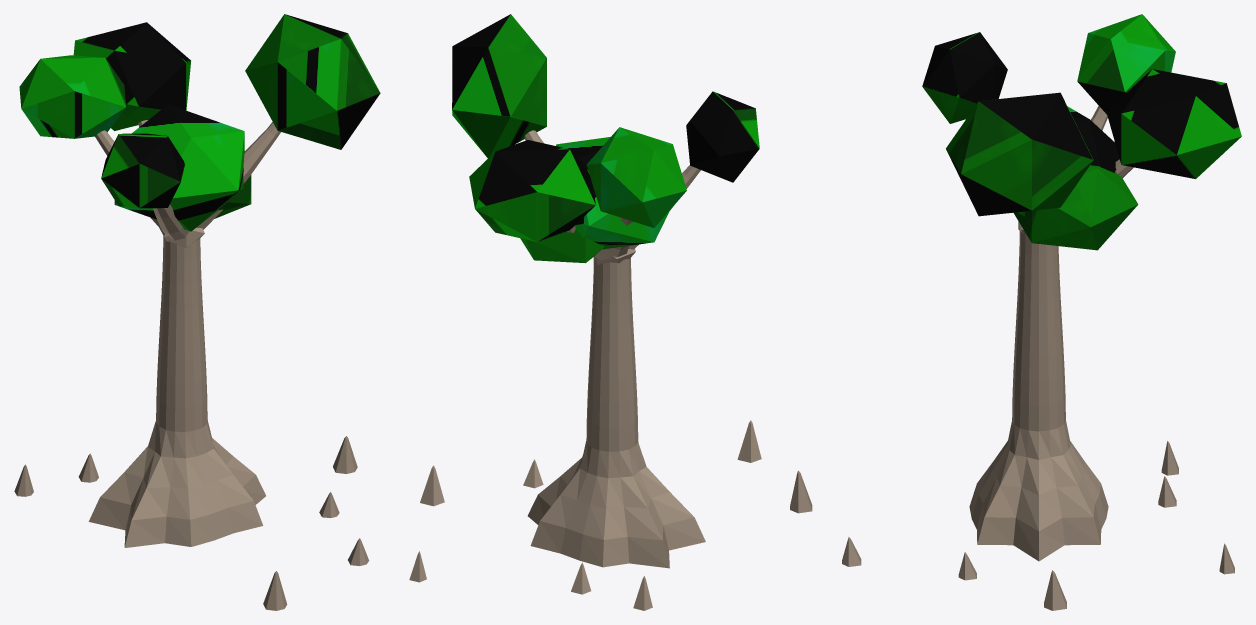
The model's file is cyprus.glb.
3 views of the same model, side by side, from view 1: azimuth 30°, elevation 25°; view 2: azimuth 150°, elevation 25°; view 3: azimuth 270°, elevation 25° (orthographic). The views are drawn at different scales.
Parts seen in each view (by area): view 1: CypressTree; view 2: CypressTree; view 3: CypressTree.
Part boxes in pixels (x1=…): CypressTree: x1=14, y1=14, x2=380, y2=610; CypressTree: x1=409, y1=14, x2=761, y2=610; CypressTree: x1=790, y1=14, x2=1241, y2=610.
Size of the model in its own units: 3.72 by 5.59 by 4.7.
Materials: 2 (1 with a texture image).
